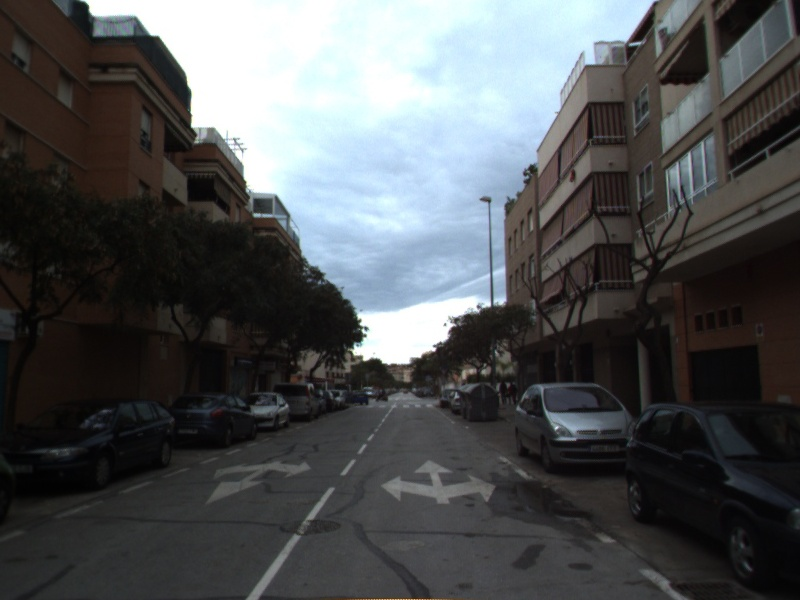STRAIGHT_LEFT_RIGHT: (379, 457, 499, 506)
